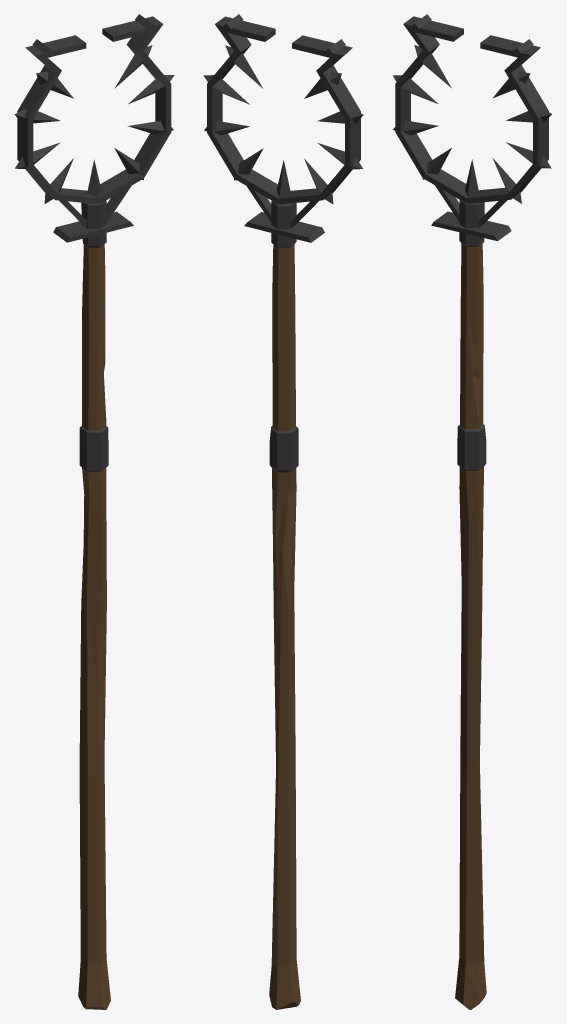
Rendered from SM_Catcher_Orc.fbx.
3 views of the same model, side by side, from view 1: azimuth 30°, elevation 25°; view 2: azimuth 150°, elevation 25°; view 3: azimuth 330°, elevation 25° (orthographic).
Visible parts, largest first — view 1: SM_Catcher_Orc; view 2: SM_Catcher_Orc; view 3: SM_Catcher_Orc.
Part boxes in pixels (box(x1,y1,x2,y2)): SM_Catcher_Orc: box(14, 14, 174, 1009); SM_Catcher_Orc: box(203, 14, 363, 1009); SM_Catcher_Orc: box(393, 14, 551, 1009).
Size of the model in its own units: 0.4947 by 2.87 by 0.088.
